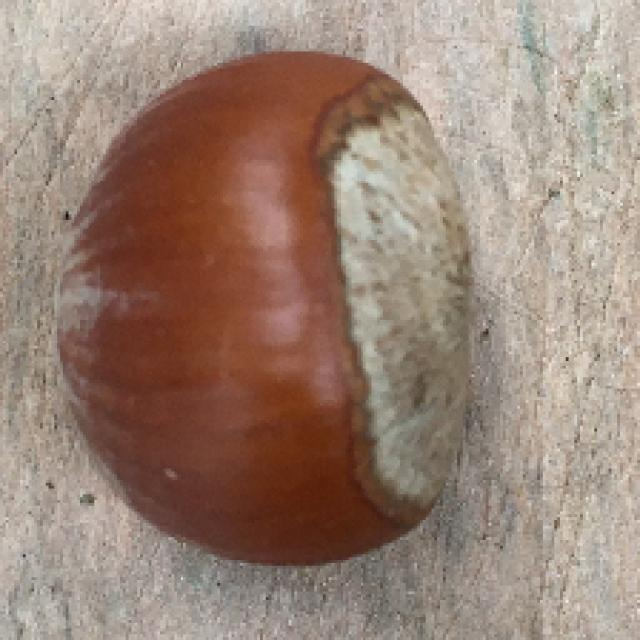QualityHazelnut: (49, 50, 478, 567)
